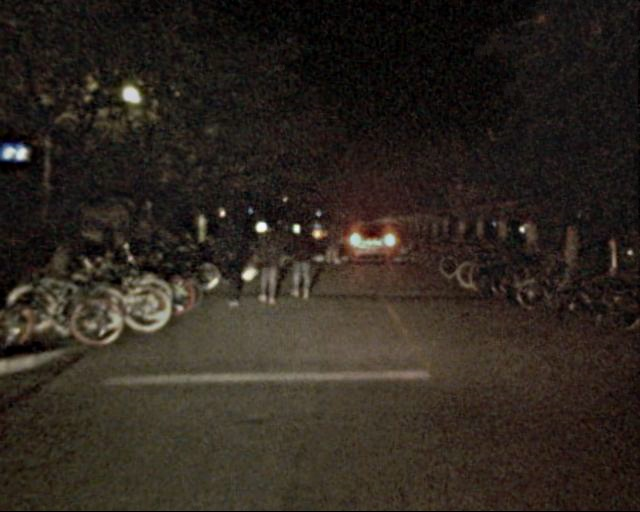person: (218, 215, 250, 309), (254, 221, 282, 306), (290, 214, 315, 300), (324, 220, 343, 266)
